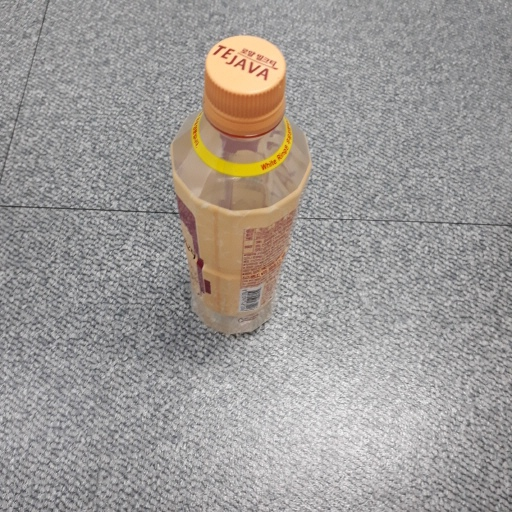Plastic_0: (169, 34, 316, 339)
